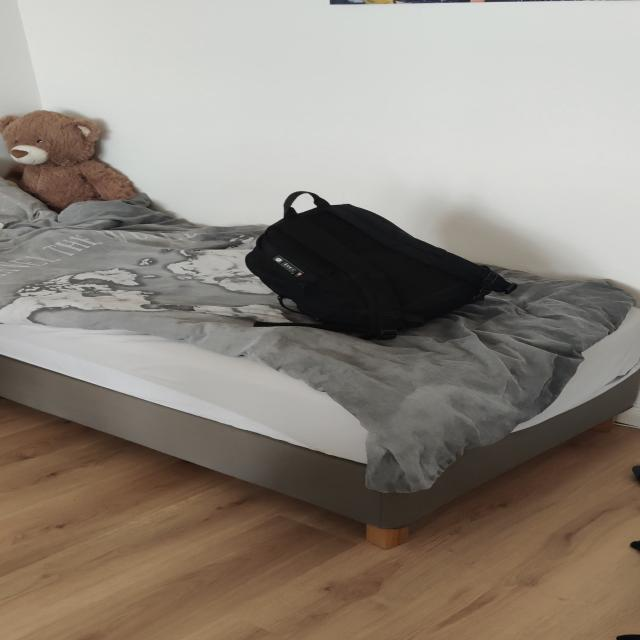backpack: (232, 193, 514, 345)
